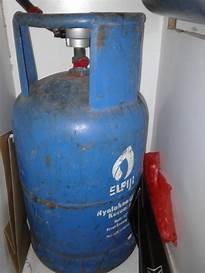blue_gas: (10, 6, 149, 273)
